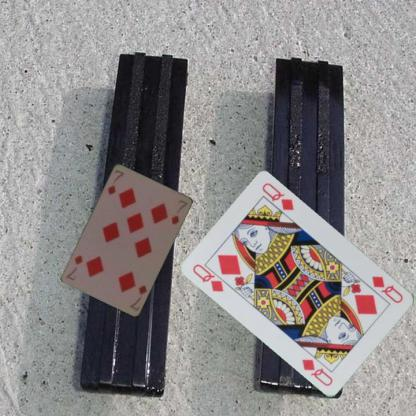7d: (104, 167, 126, 196), (127, 282, 148, 311)
Qd: (190, 261, 233, 294), (369, 274, 405, 304)
